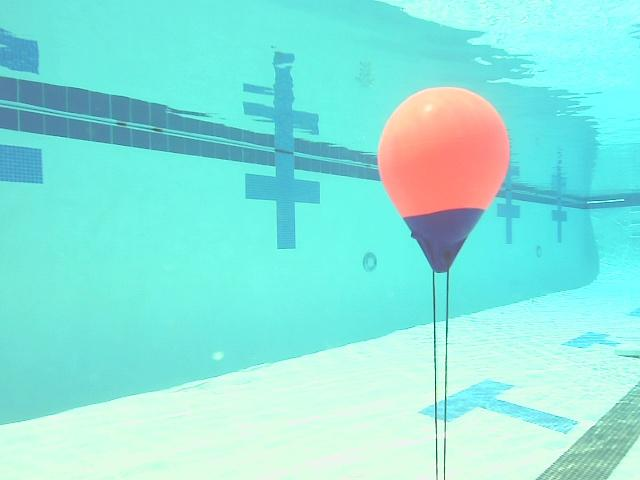buoy: (378, 87, 509, 273)
